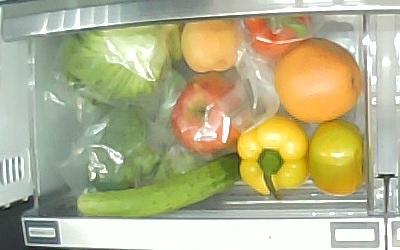apple_vinyl: (171, 73, 252, 154)
broccoli_vinyl: (88, 106, 182, 192)
cucumber: (78, 153, 242, 217)
grapefruit: (274, 38, 362, 123)
lettuce_vinyl: (63, 22, 182, 99)
paprika: (237, 114, 309, 200)
paprika_vinyl: (243, 14, 311, 59)
peach: (181, 19, 244, 72)
persimmon: (308, 119, 365, 196)
